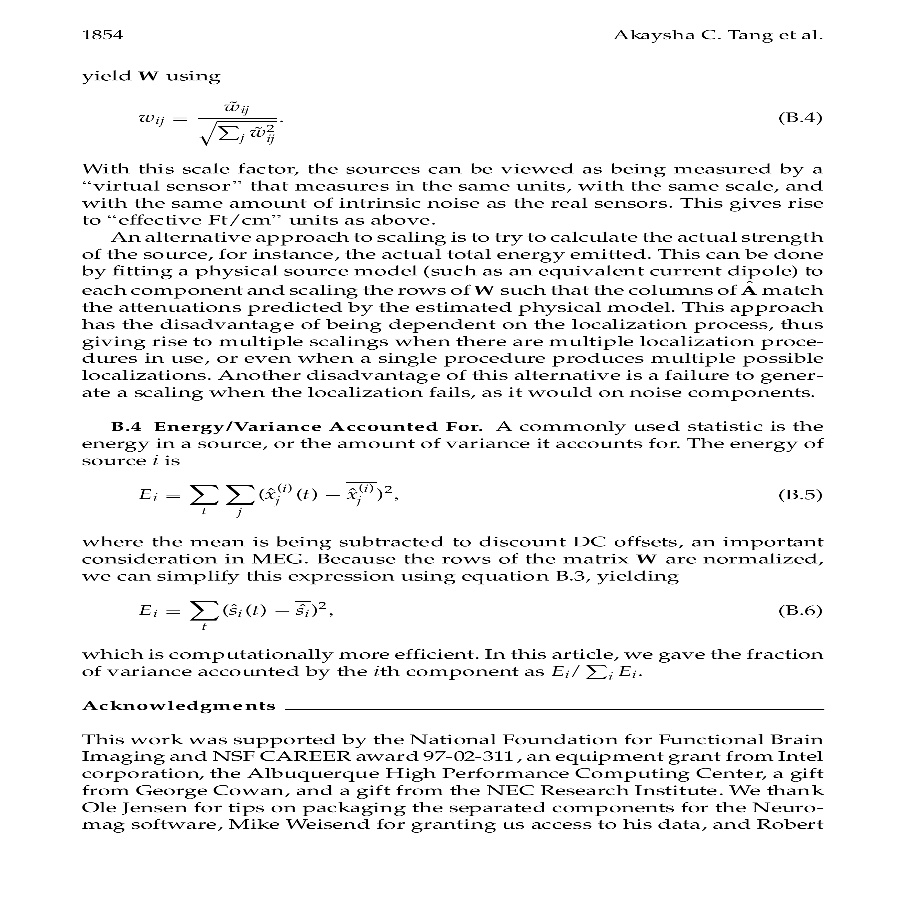eq: (138, 478, 394, 519), (135, 98, 280, 147), (138, 598, 327, 635)
